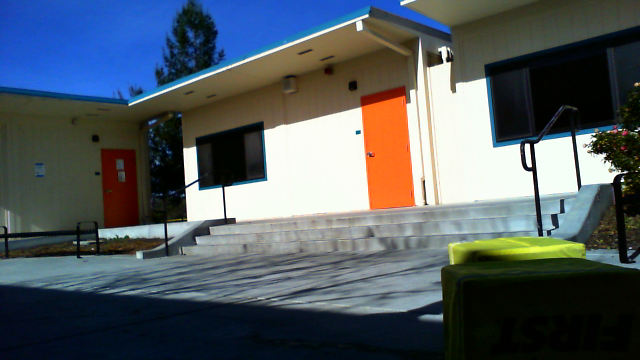cube: (441, 257, 639, 360), (448, 235, 587, 349)
